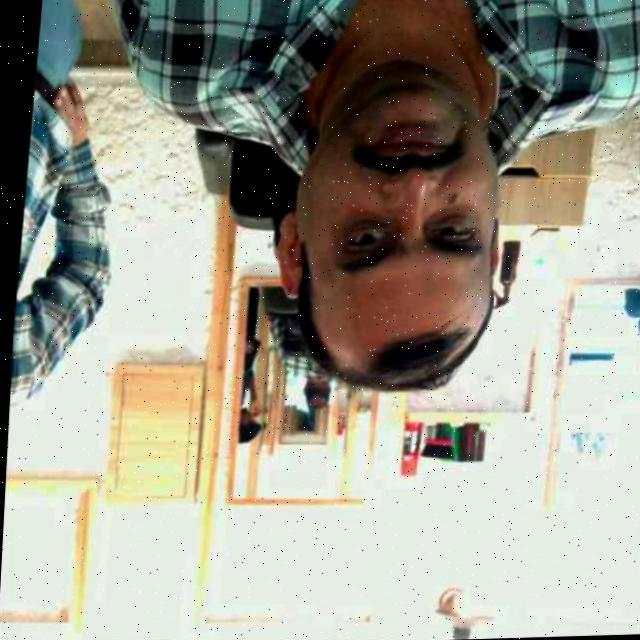puffy_eyes: (416, 210, 475, 236), (333, 215, 387, 242)
